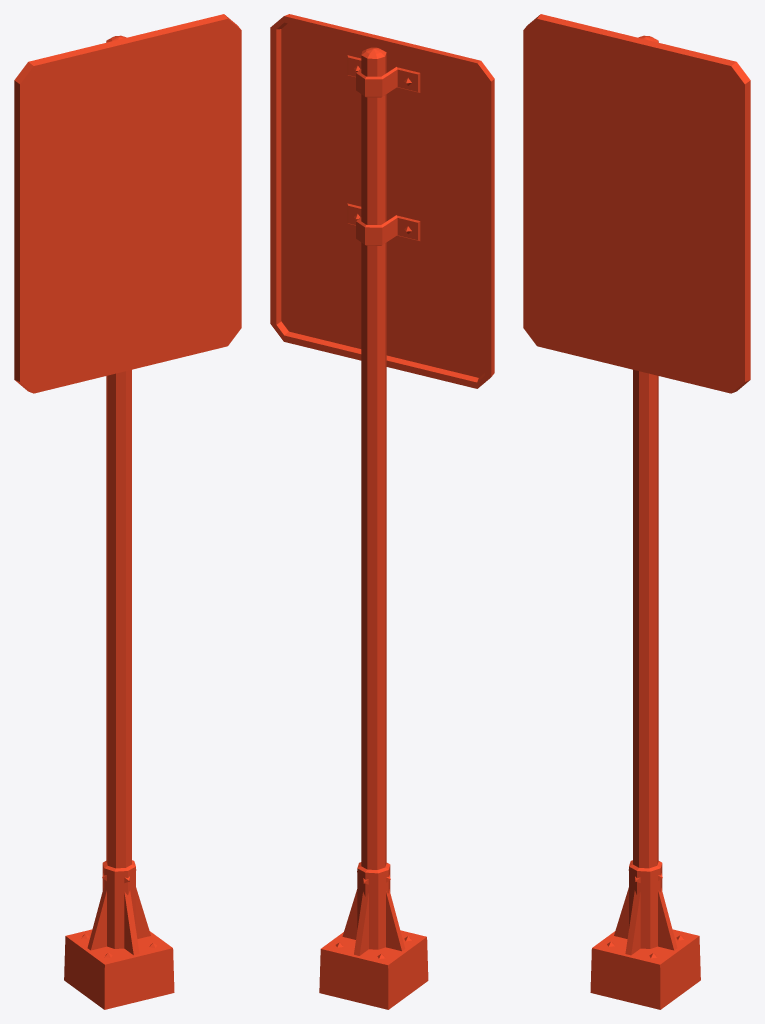
The model's file is SM_Sign_Speed_25_B_City.fbx.
3 views of the same model, side by side, from view 1: azimuth 30°, elevation 25°; view 2: azimuth 150°, elevation 25°; view 3: azimuth 330°, elevation 25° (orthographic).
Visible parts, largest first — view 1: SM_Sign_Speed_25_B_City; view 2: SM_Sign_Speed_25_B_City; view 3: SM_Sign_Speed_25_B_City.
Boxes of the visible parts, x1,y1,x2,y2 form: SM_Sign_Speed_25_B_City: (14, 14, 241, 1009); SM_Sign_Speed_25_B_City: (270, 14, 494, 1009); SM_Sign_Speed_25_B_City: (523, 14, 750, 1009).
Bounding box in the file's own units: 0.5876 × 2.39 × 0.1839.
